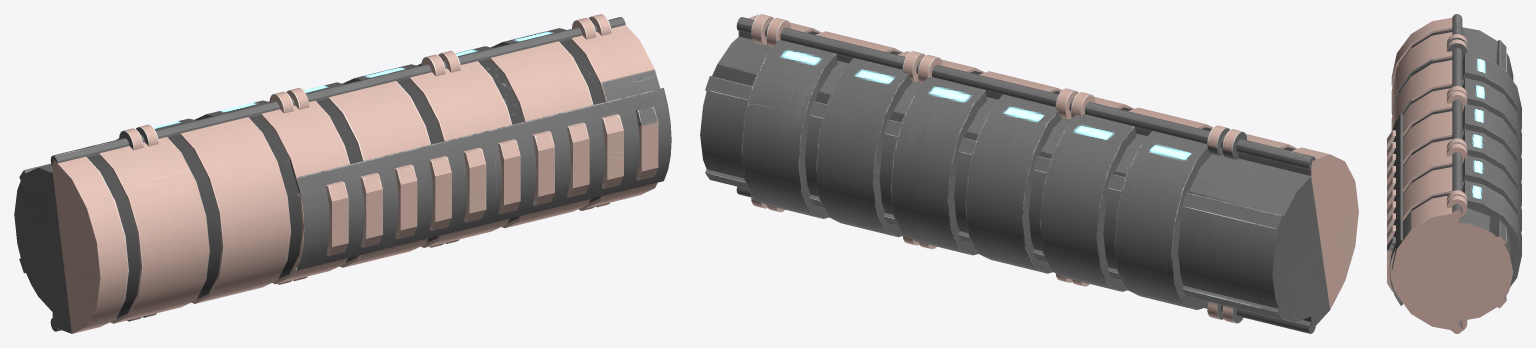
Rendered from grip_18_r_c.glb.
The picture shows the model from 3 angles, left to right: view 1: azimuth 30°, elevation 25°; view 2: azimuth 150°, elevation 25°; view 3: azimuth 270°, elevation 25°; orthographic projection. The views are drawn at different scales.
Visible parts, largest first — view 1: grip_18_r_c_lod0; view 2: grip_18_r_c_lod0; view 3: grip_18_r_c_lod0.
Boxes of the visible parts, left/top/right/bottom form: grip_18_r_c_lod0: left=14, top=14, right=671, bottom=333; grip_18_r_c_lod0: left=700, top=14, right=1358, bottom=333; grip_18_r_c_lod0: left=1387, top=14, right=1521, bottom=333.
Size of what is drawn, in the model's own units: 0.1042 by 0.033 by 0.0302.
1 material, 1 textured.
